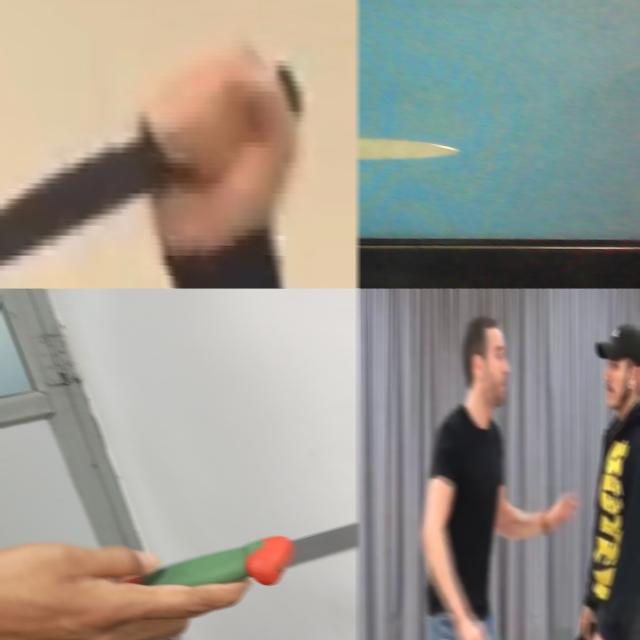Knife: (0, 116, 167, 288), (141, 522, 358, 586), (358, 138, 458, 159)
Knife_Handle: (0, 48, 308, 288), (566, 601, 597, 640)
